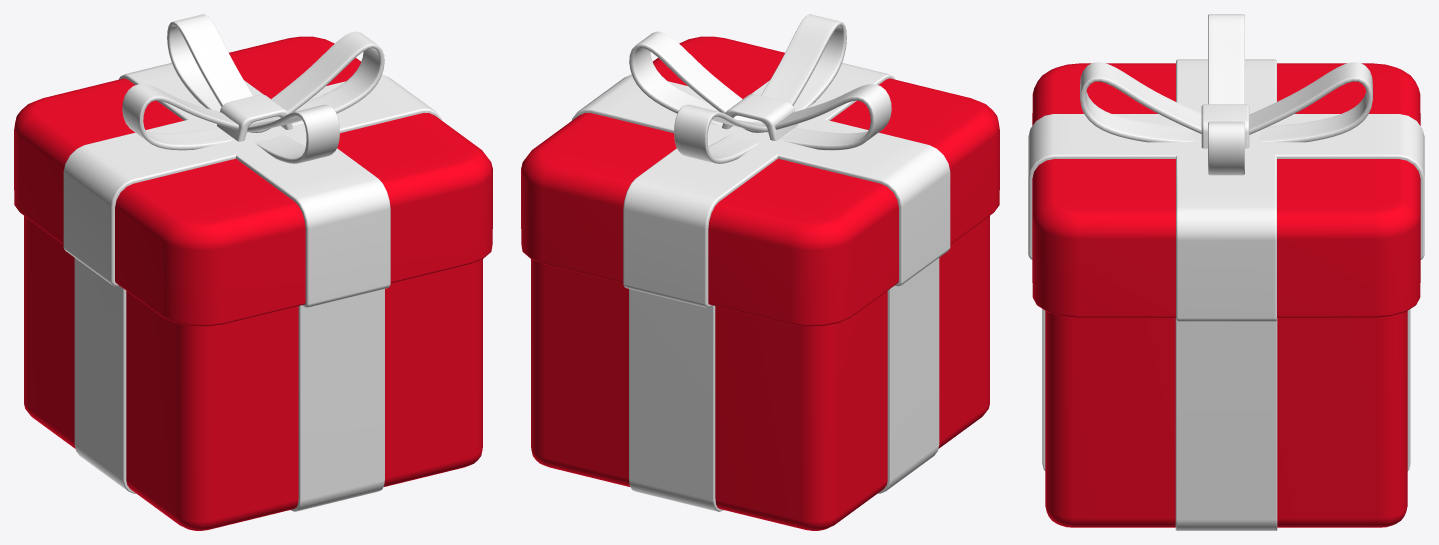
The model's file is add-to-basket-1678134940571.glb.
The picture shows the model from 3 angles, left to right: view 1: azimuth 30°, elevation 25°; view 2: azimuth 150°, elevation 25°; view 3: azimuth 270°, elevation 25°; orthographic projection. The views are drawn at different scales.
Parts seen in each view (by area): view 1: boxTop, box; view 2: boxTop, box; view 3: boxTop, box.
Part boxes in pixels (bbox=[...]): boxTop: bbox=[14, 14, 492, 326]; box: bbox=[24, 216, 482, 530]; boxTop: bbox=[521, 14, 999, 326]; box: bbox=[531, 216, 989, 530]; boxTop: bbox=[1028, 14, 1424, 321]; box: bbox=[1042, 309, 1410, 530].
Bounding box in the file's own units: 2.18 × 2.36 × 2.18.
